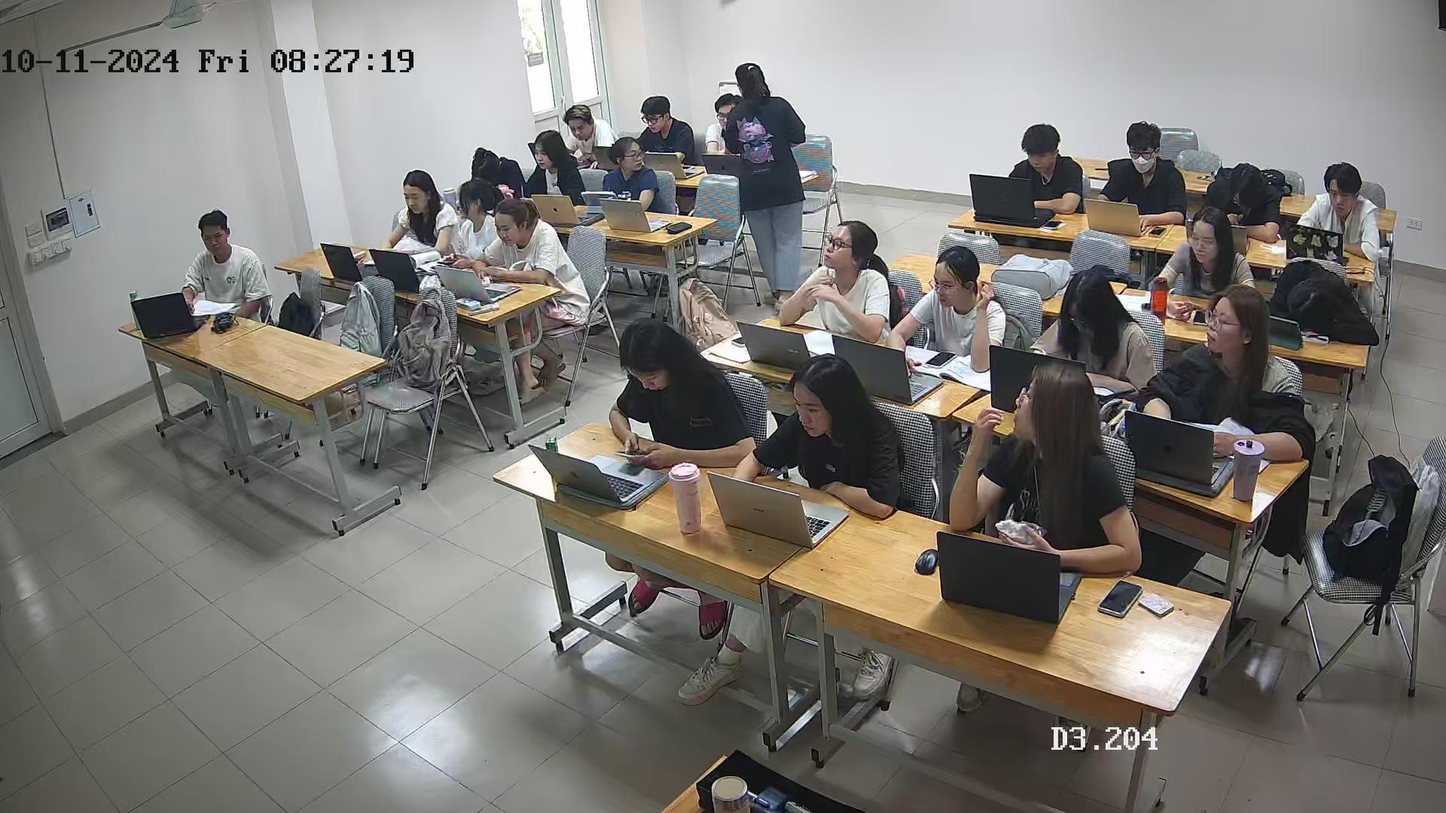Look Around: (999, 361, 1096, 447), (1196, 281, 1275, 386), (610, 139, 650, 183)
Stand Up: (725, 60, 800, 291)
Wave: (969, 274, 999, 381)
phone: (606, 420, 658, 467)
